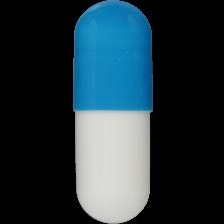61786-388: (0, 0, 224, 224)
